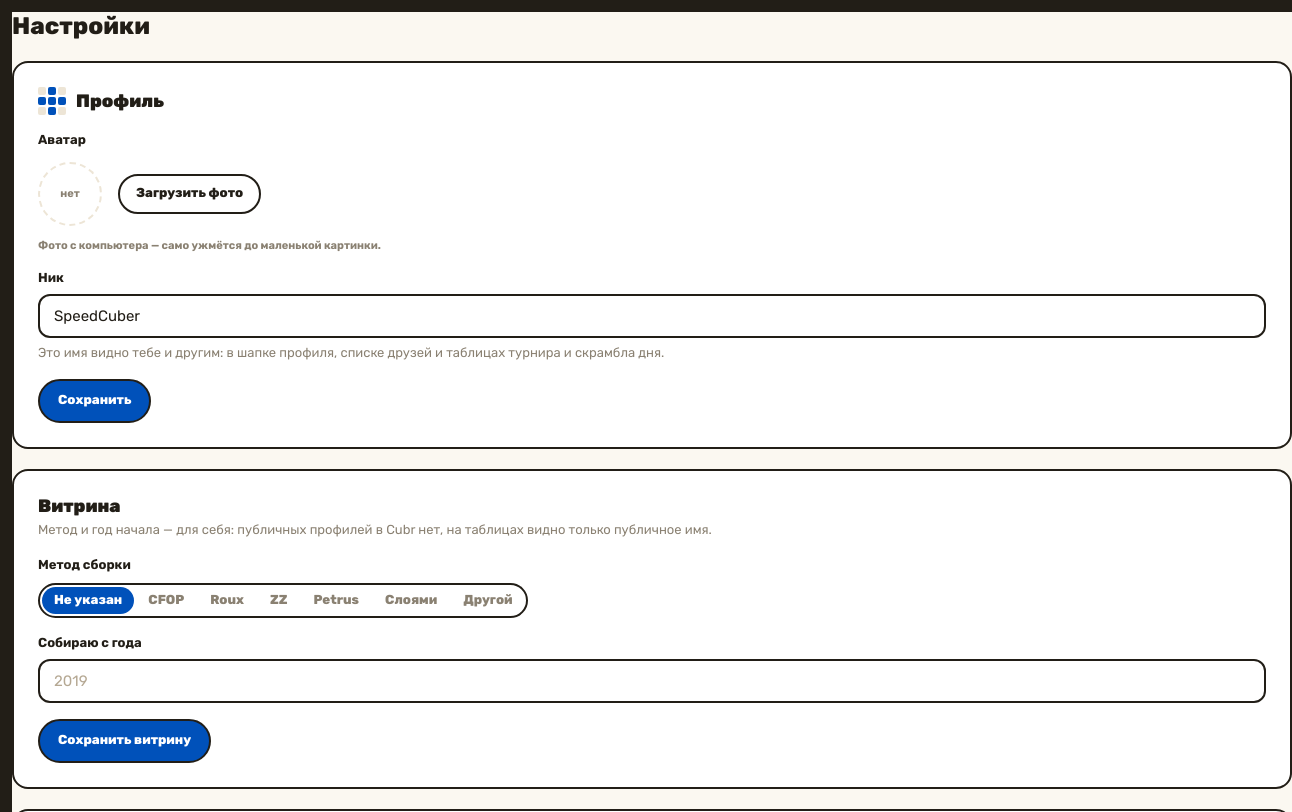
Test: SettingsPage — handle + avatar › показывает причину, когда фильтр имён отклонил ник
The image size is (1292, 812).
Replace the text in the field labelled "Ник" with "мудак" at (652, 316), box [38,294,1266,338]
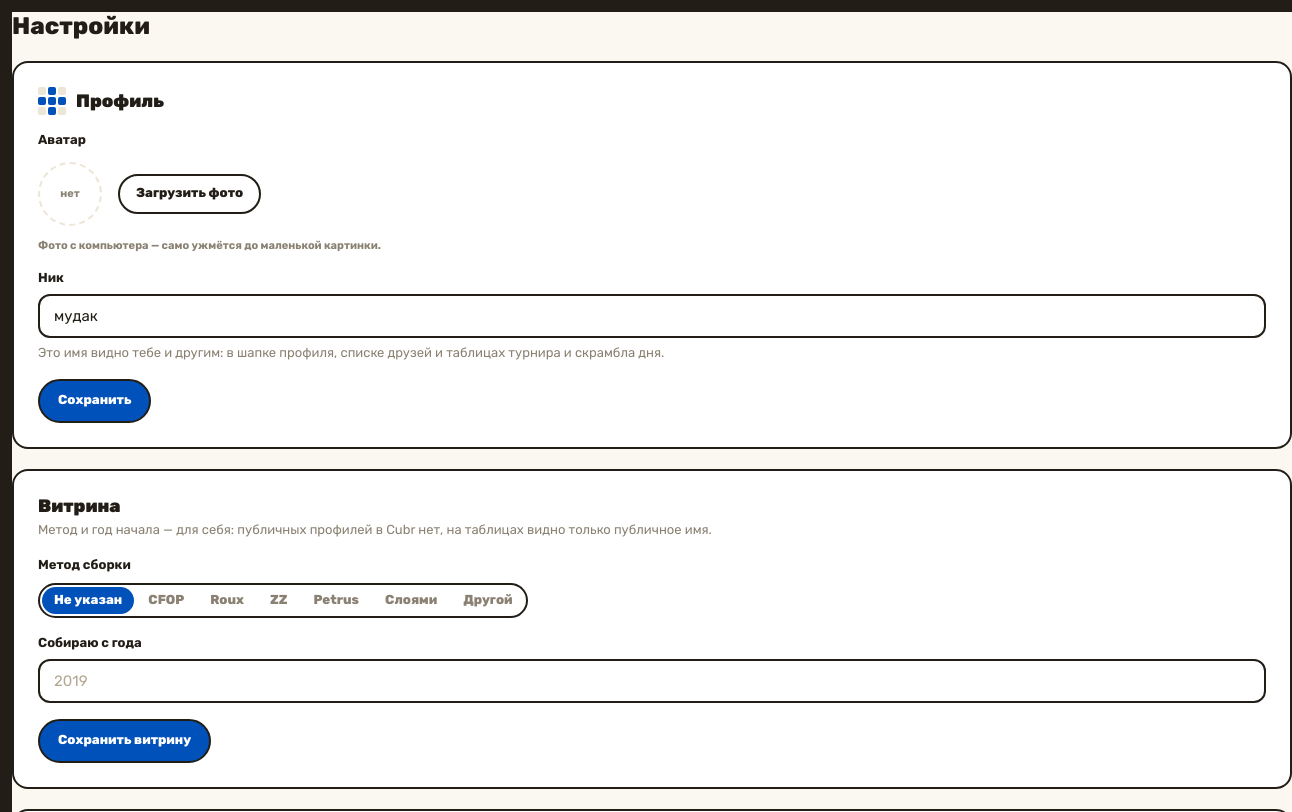
Click the button "Сохранить" at (95, 401), box [38,379,152,423]
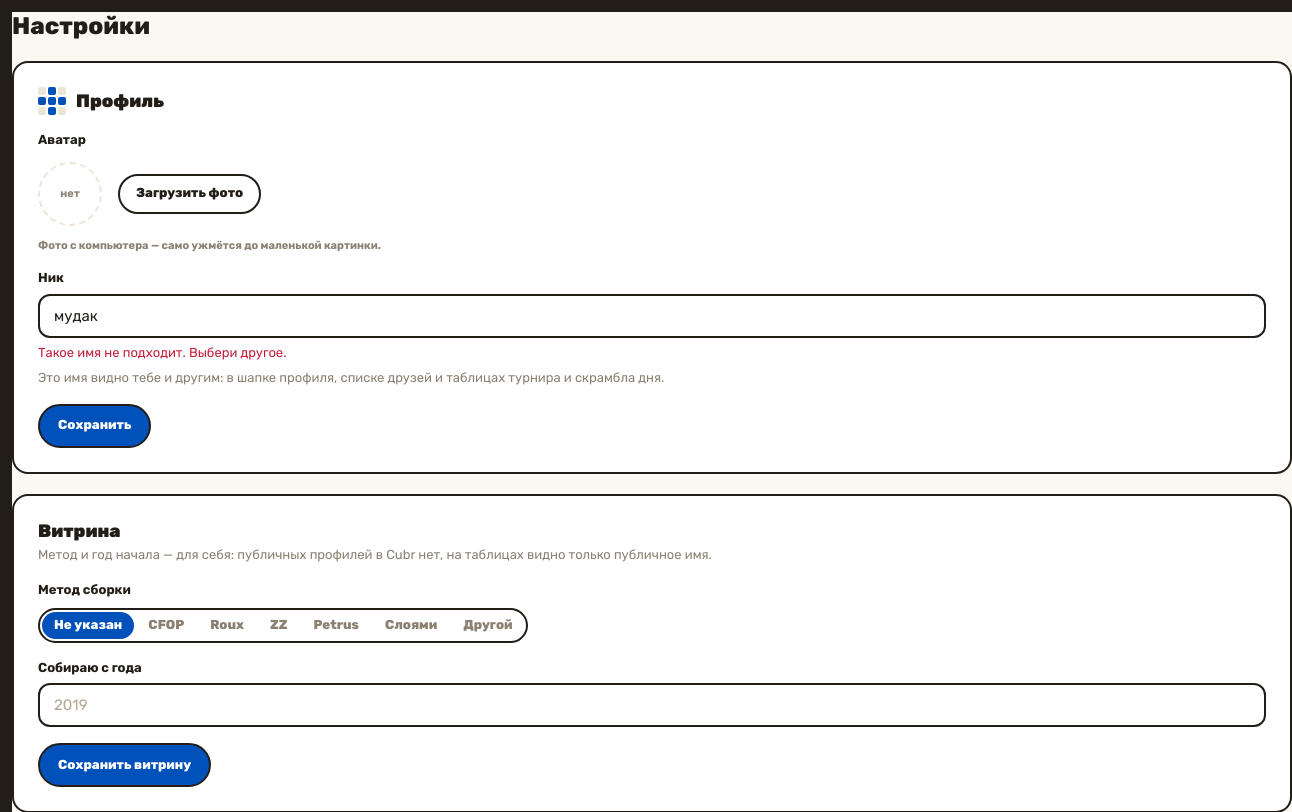
Now the text "Такое имя не подходит. Выбери другое." is shown, box [38,345,286,360]
